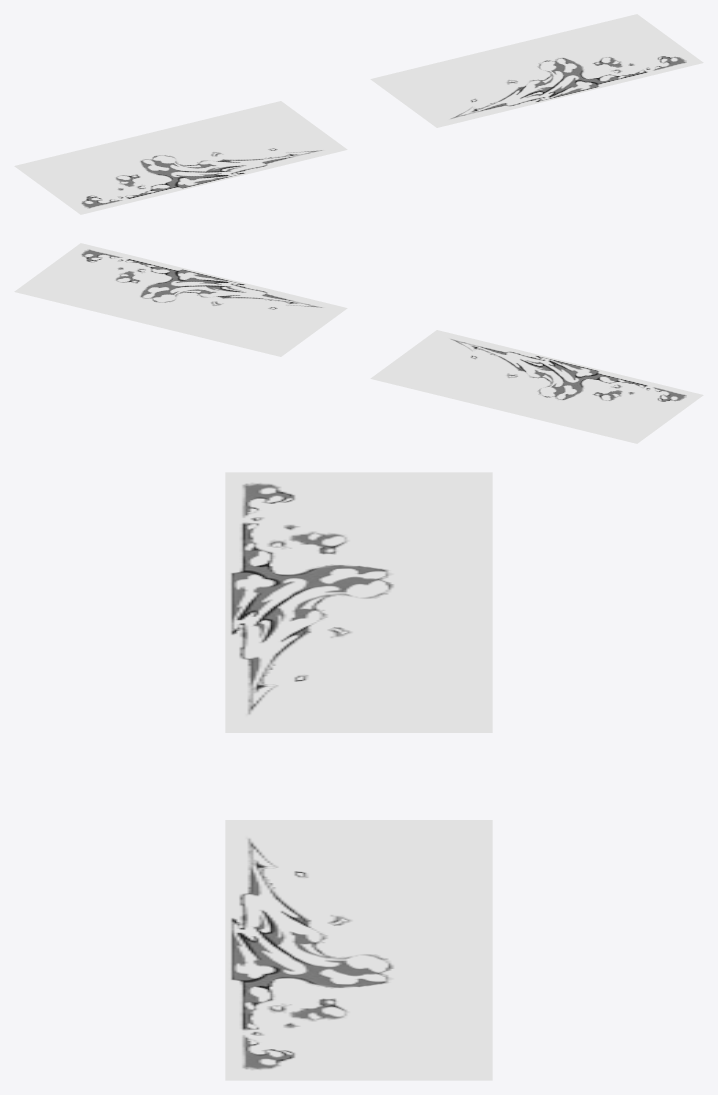
The model's file is Eff_dust_b.FBX.
The picture shows the model from 3 angles, top to bottom: view 1: azimuth 30°, elevation 25°; view 2: azimuth 150°, elevation 25°; view 3: azimuth 270°, elevation 25°; orthographic projection. The views are drawn at different scales.
Visible parts, largest first — view 1: FX_dust_b; view 2: FX_dust_b; view 3: FX_dust_b.
Part boxes in pixels (x1=…): FX_dust_b: x1=14, y1=14, x2=703, y2=214; FX_dust_b: x1=14, y1=243, x2=703, y2=443; FX_dust_b: x1=225, y1=472, x2=492, y2=1080.
Bounding box in the file's own units: 7 × 2.18e-06 × 1.3.
Materials: 1 (1 with a texture image).
